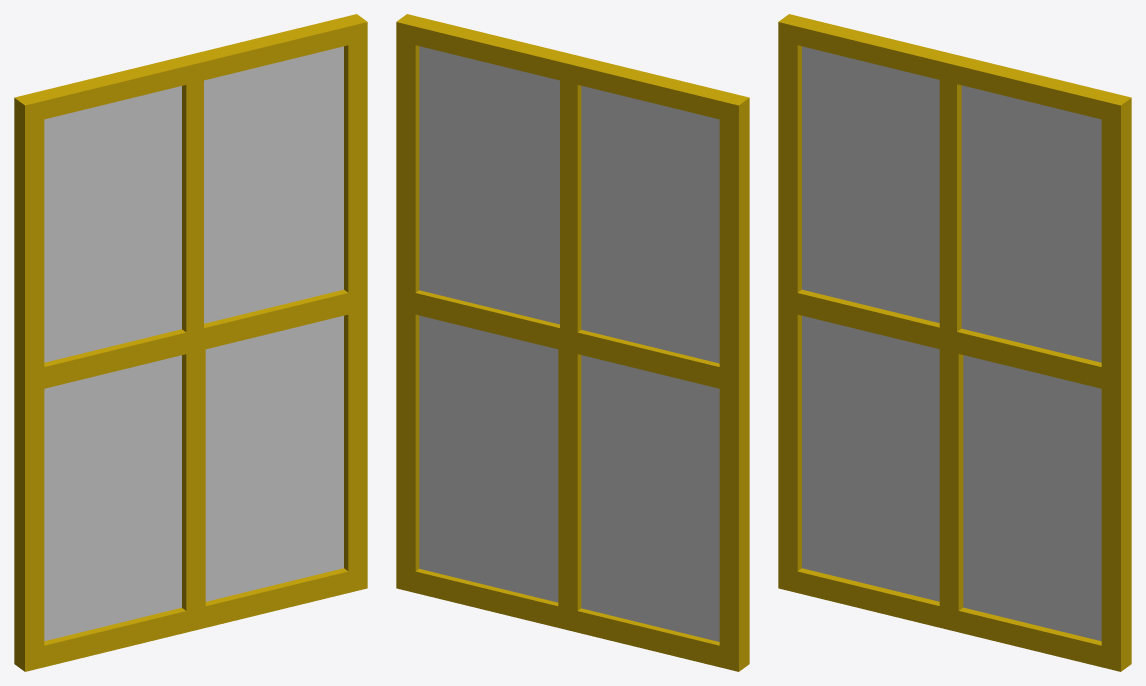
Rendered from LudumDareWindow.fbx.
The picture shows the model from 3 angles, left to right: view 1: azimuth 30°, elevation 25°; view 2: azimuth 150°, elevation 25°; view 3: azimuth 330°, elevation 25°; orthographic projection.
Parts seen in each view (by area): view 1: Grid.001, Grid; view 2: Grid.001, Grid; view 3: Grid.001, Grid.
Part boxes in pixels (x1,y1,x2,y2): Grid.001: (44,46,343,641); Grid: (14,14,367,671); Grid.001: (419,46,719,641); Grid: (396,14,749,671); Grid.001: (802,46,1101,641); Grid: (778,14,1131,671).
Size of the model in its own units: 103 by 163 by 5.66.
